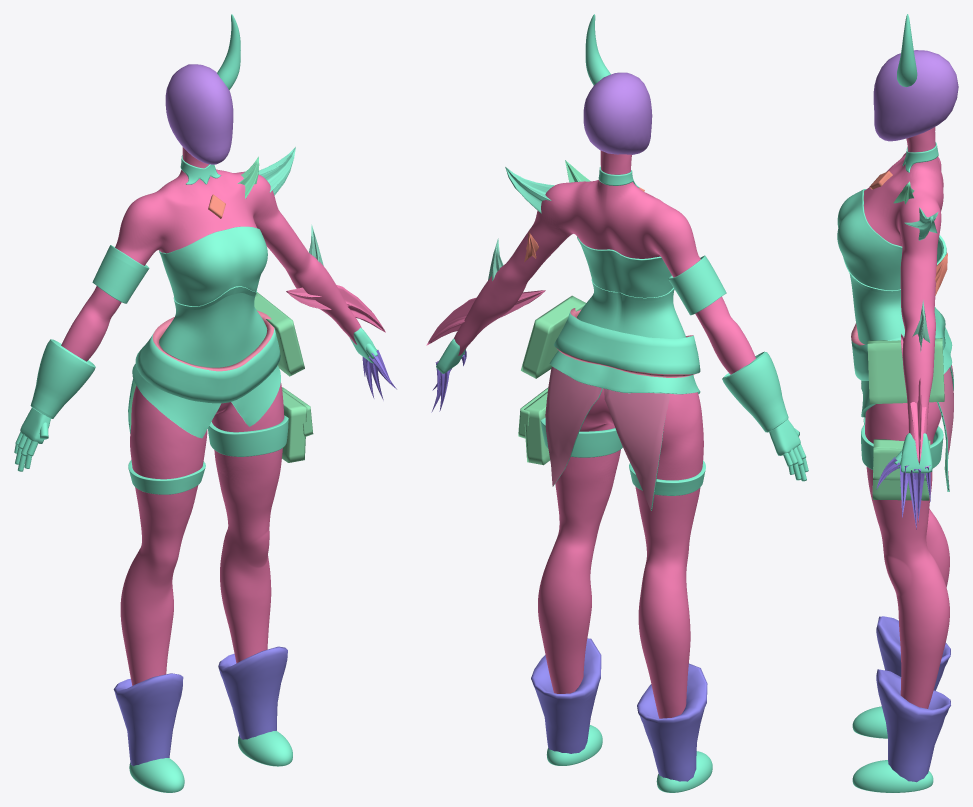
The model's file is cleric test for unity 2.fbx.
The picture shows the model from 3 angles, left to right: view 1: azimuth 30°, elevation 25°; view 2: azimuth 150°, elevation 25°; view 3: azimuth 270°, elevation 25°; orthographic projection. The views are drawn at different scales.
Parts seen in each view (by area): view 1: Merged_PolySphere2; view 2: Merged_PolySphere2; view 3: Merged_PolySphere2.
Part boxes in pixels (<box>): Merged_PolySphere2: <box>14,14,396,792</box>; Merged_PolySphere2: <box>426,14,808,792</box>; Merged_PolySphere2: <box>837,14,958,792</box>.
Size of the model in its own units: 5.08 by 9.57 by 1.39.
